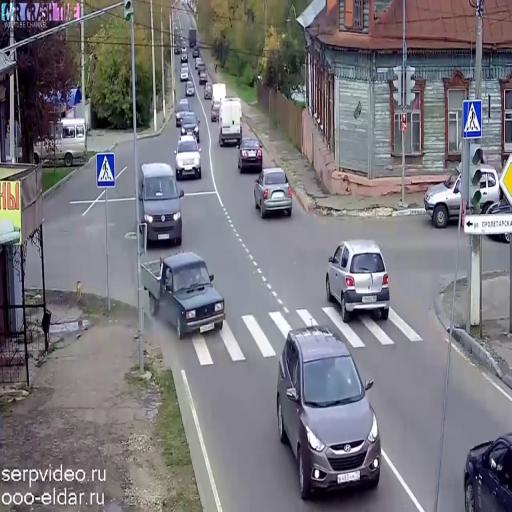小汽车: (272, 326, 383, 494), (140, 250, 227, 336), (324, 236, 392, 319), (423, 164, 501, 224), (462, 421, 512, 511), (138, 164, 184, 246), (30, 117, 90, 166), (252, 169, 294, 219), (218, 96, 244, 146), (174, 136, 202, 178), (237, 134, 263, 177), (180, 110, 204, 140), (203, 77, 216, 100), (178, 65, 191, 86), (183, 78, 196, 98), (191, 44, 202, 61)
